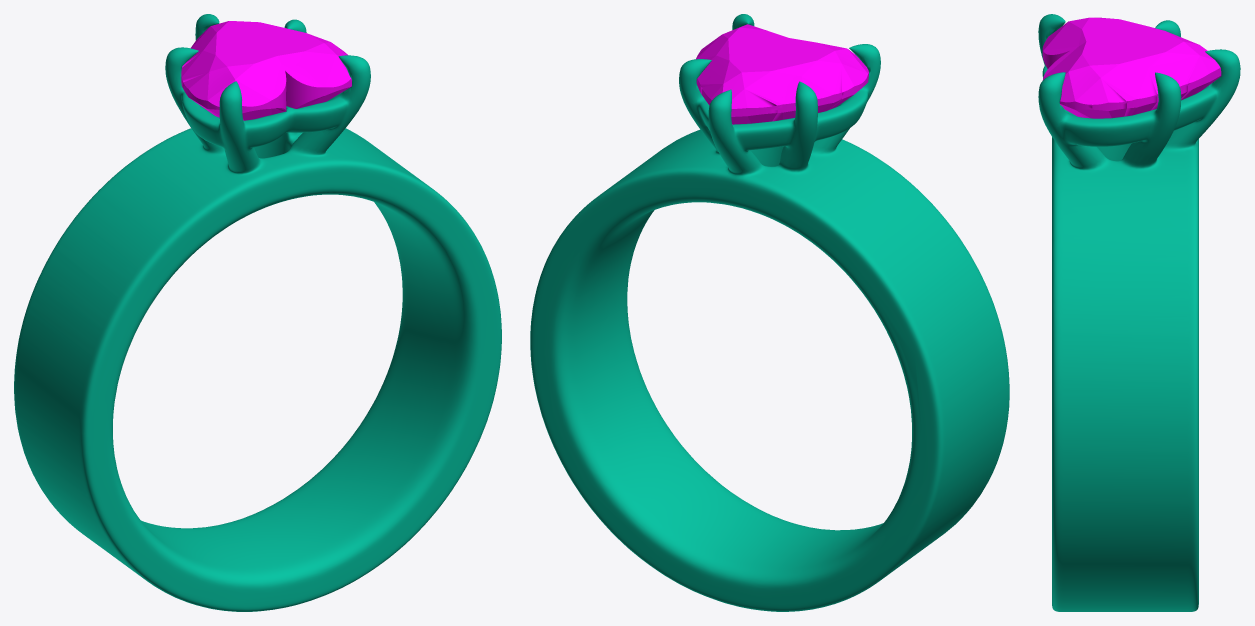
Rendered from BE1258_HT_200ct_RENDER.glb.
3 renders of one model, left to right at view 1: azimuth 30°, elevation 25°; view 2: azimuth 150°, elevation 25°; view 3: azimuth 270°, elevation 25°, orthographic. The views are drawn at different scales.
Visible parts, largest first — view 1: Metal 01, CS_Diamond_Heart; view 2: Metal 01, CS_Diamond_Heart; view 3: Metal 01, CS_Diamond_Heart.
Part boxes in pixels (x1,y1,x2,y2): Metal 01: (14, 14, 501, 611); CS_Diamond_Heart: (181, 21, 351, 120); Metal 01: (530, 14, 1009, 611); CS_Diamond_Heart: (696, 24, 868, 124); Metal 01: (1038, 14, 1240, 611); CS_Diamond_Heart: (1042, 17, 1221, 118).
Bounding box in the file's own units: 20.1 × 24.66 × 8.25.
